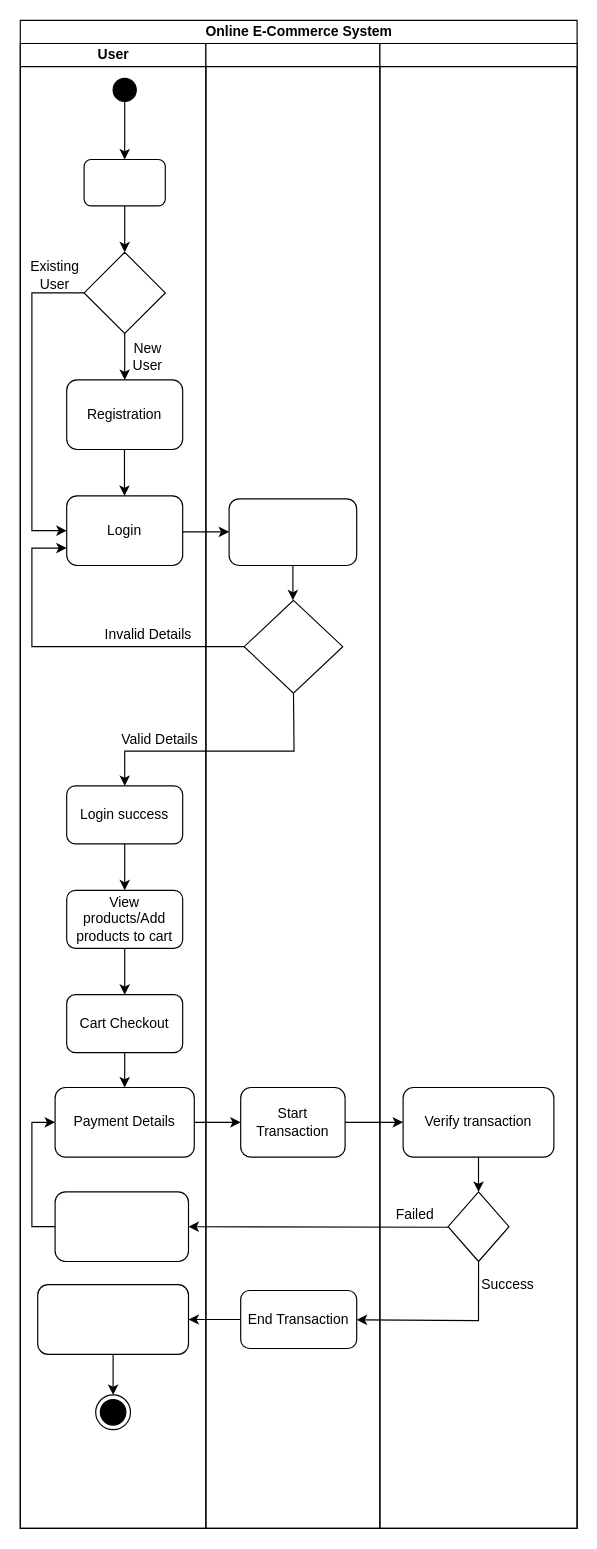
Some shapes in this 597 by 1549 pixel diagram are drawn without their labels. Each missing label, with the box of its shape:
Banking System: (379, 42, 577, 1528)
Failed Details: (54, 1191, 188, 1262)
Payment Summary: (37, 1284, 188, 1354)
System: (205, 42, 380, 1528)
User Type: (83, 158, 165, 206)
Verify Login Input: (228, 498, 357, 566)
